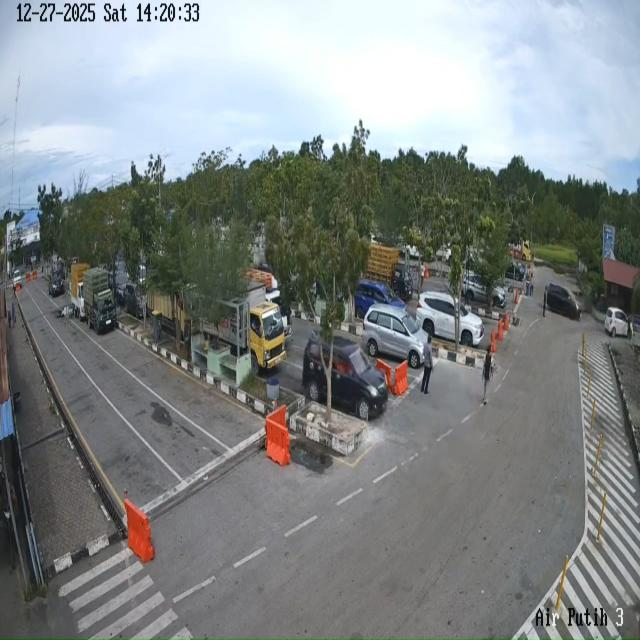Golongan IVA: (302, 333, 388, 420), (362, 304, 427, 369), (416, 291, 484, 347), (354, 280, 406, 319), (463, 272, 506, 308), (546, 282, 582, 320), (608, 297, 636, 338), (123, 282, 145, 318), (48, 272, 65, 297)
Golongan IVB: (83, 268, 116, 334), (70, 263, 90, 321)
Golongan VB: (200, 280, 286, 374)
